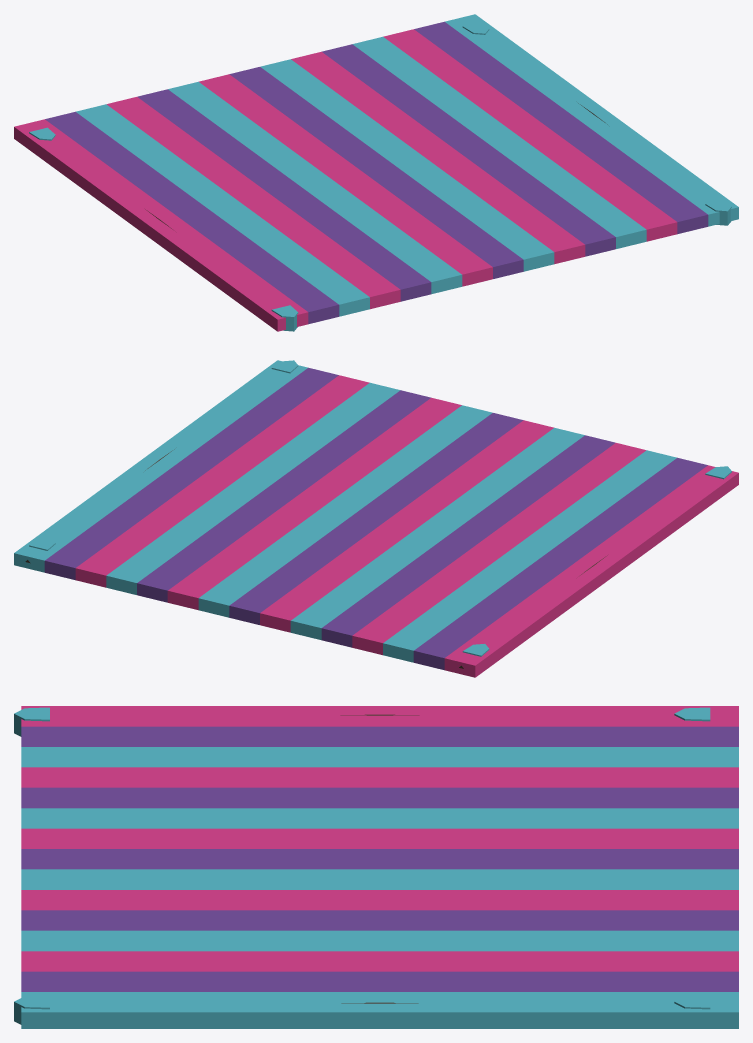
Rendered from papel_picado_bridge.glb.
3 renders of one model, top to bottom at view 1: azimuth 30°, elevation 25°; view 2: azimuth 150°, elevation 25°; view 3: azimuth 270°, elevation 25°, orthographic. The views are drawn at different scales.
Visible parts, largest first — view 1: Tira pisable, Tira pisable.001, Tira pisable.004, Tira pisable.008, Tira pisable.009, Tira pisable.012, Tira pisable.013, Tira pisable.005, Tira pisable.003, Tira pisable.011, Tira pisable.007, Tira pisable.010 (+3 smaller); view 2: Tira pisable, Tira pisable.001, Tira pisable.004, Tira pisable.008, Tira pisable.009, Tira pisable.012, Tira pisable.013, Tira pisable.005, Tira pisable.003, Tira pisable.011, Tira pisable.007, Tira pisable.010 (+3 smaller); view 3: Tira pisable.014, Tira pisable.004, Tira pisable.011, Tira pisable.001, Tira pisable.002, Tira pisable.003, Tira pisable.005, Tira pisable.006, Tira pisable.007, Tira pisable.008, Tira pisable.009, Tira pisable.010 (+5 smaller).
Part boxes in pixels (x1,y1,x2,y2): Tira pisable: (14,119,308,331); Tira pisable.001: (45,111,339,324); Tira pisable.004: (137,89,431,301); Tira pisable.008: (260,59,554,271); Tira pisable.009: (291,51,585,264); Tira pisable.012: (383,29,677,241); Tira pisable.013: (414,21,708,234); Tira pisable.005: (168,81,462,294); Tira pisable.003: (106,97,400,309); Tira pisable.011: (352,36,646,248); Tira pisable.007: (229,67,523,278); Tira pisable.010: (322,44,615,256); Tira pisable: (444,465,738,677); Tira pisable.001: (413,457,707,670); Tira pisable.004: (321,435,615,647); Tira pisable.008: (198,405,492,617); Tira pisable.009: (167,397,461,610); Tira pisable.012: (75,375,369,587); Tira pisable.013: (44,367,338,580); Tira pisable.005: (290,427,584,640); Tira pisable.003: (352,443,646,655); Tira pisable.011: (106,382,400,594); Tira pisable.007: (229,413,523,624); Tira pisable.010: (137,390,430,602); Tira pisable.014: (21,992,738,1028); Tira pisable.004: (21,787,738,808); Tira pisable.011: (21,930,738,951); Tira pisable.001: (21,726,738,746); Tira pisable.002: (21,747,738,767); Tira pisable.003: (21,767,738,787); Tira pisable.005: (21,808,738,828); Tira pisable.006: (21,828,738,848); Tira pisable.007: (21,849,738,869); Tira pisable.008: (21,869,738,889); Tira pisable.009: (21,890,738,910); Tira pisable.010: (21,910,738,930).
Size of the model in its own units: 2 by 0.06 by 2.
